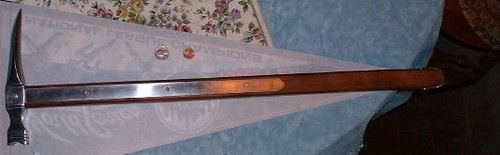hammer: (5, 9, 446, 146)
